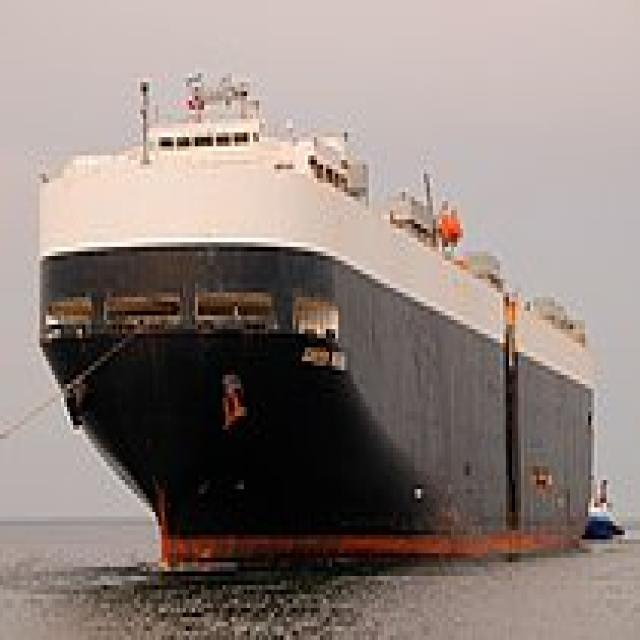Carrier: (31, 59, 594, 572)
